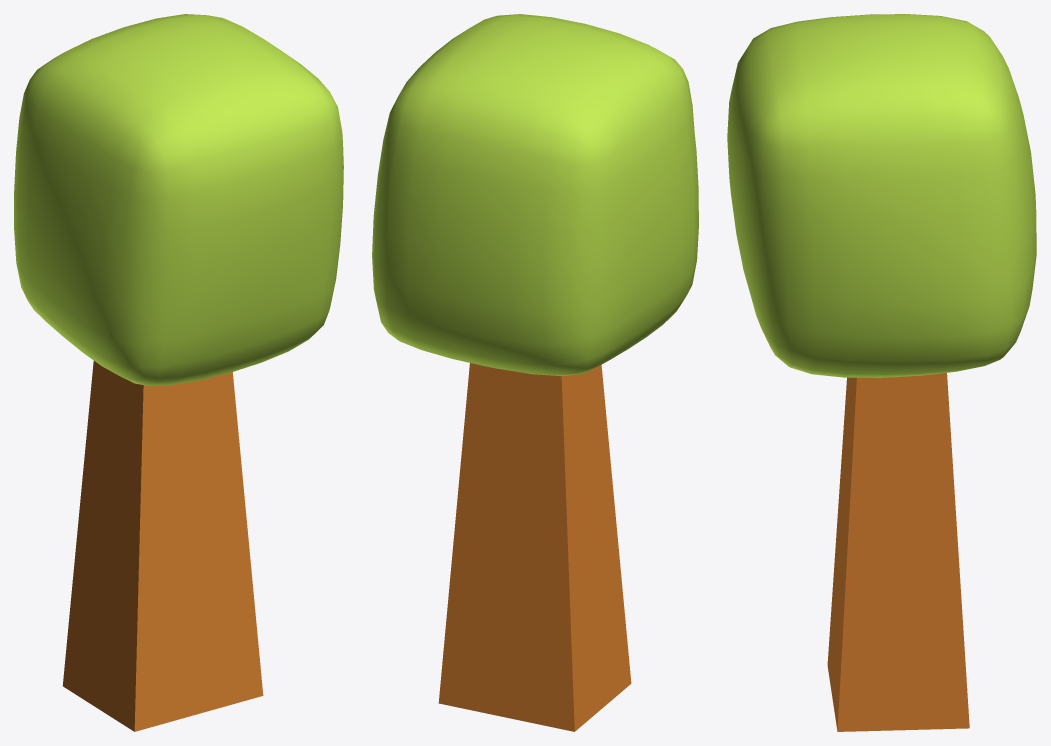
Rendered from tree2.fbx.
3 views of the same model, side by side, from view 1: azimuth 30°, elevation 25°; view 2: azimuth 150°, elevation 25°; view 3: azimuth 270°, elevation 25° (orthographic). The views are drawn at different scales.
Parts seen in each view (by area): view 1: Cube.345, Cube.346; view 2: Cube.345, Cube.346; view 3: Cube.345, Cube.346.
Boxes of the visible parts, x1=… form: Cube.345: x1=14, y1=14, x2=343, y2=385; Cube.346: x1=62, y1=361, x2=263, y2=731; Cube.345: x1=372, y1=14, x2=698, y2=376; Cube.346: x1=438, y1=363, x2=631, y2=731; Cube.345: x1=727, y1=14, x2=1036, y2=377; Cube.346: x1=827, y1=373, x2=969, y2=731.
Size of the model in its own units: 1194 by 2941 by 1243.
